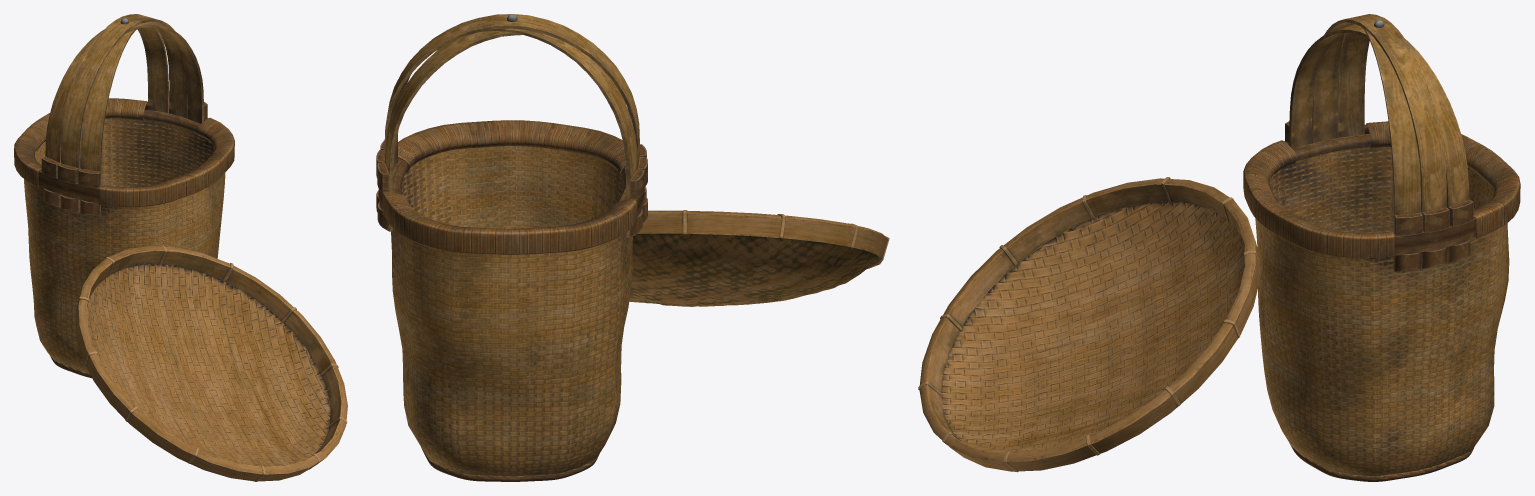
The model's file is basket.glb.
The picture shows the model from 3 angles, left to right: view 1: azimuth 30°, elevation 25°; view 2: azimuth 150°, elevation 25°; view 3: azimuth 270°, elevation 25°; orthographic projection. The views are drawn at different scales.
Parts seen in each view (by area): view 1: polySurface12, polySurface225; view 2: polySurface225, polySurface12; view 3: polySurface225, polySurface12.
Part boxes in pixels (left/top/right/bottom): polySurface12: left=75, top=245, right=347, bottom=481; polySurface225: left=14, top=14, right=234, bottom=378; polySurface225: left=376, top=14, right=647, bottom=481; polySurface12: left=629, top=210, right=889, bottom=306; polySurface225: left=1243, top=14, right=1520, bottom=481; polySurface12: left=918, top=177, right=1259, bottom=472.
Bounding box in the file's own units: 0.8748 × 1.11 × 1.43.
Materials: 2 (2 with a texture image).
